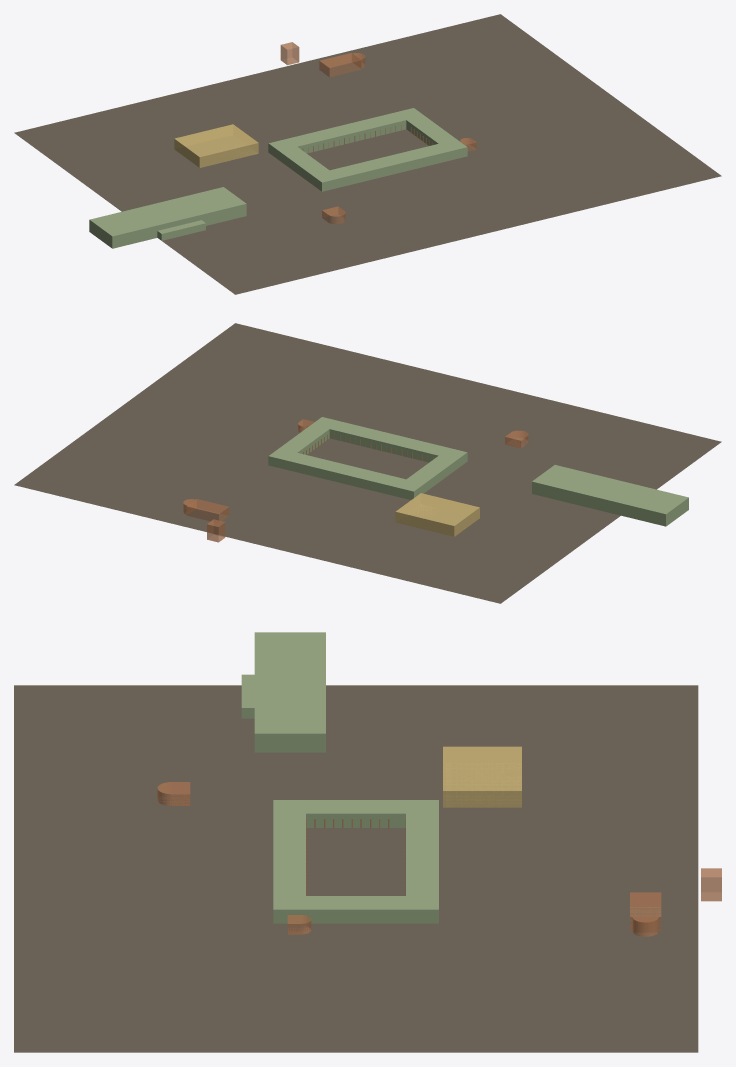
The model's file is medijana.glb.
3 renders of one model, top to bottom at view 1: azimuth 30°, elevation 25°; view 2: azimuth 150°, elevation 25°; view 3: azimuth 270°, elevation 25°, orthographic. The views are drawn at different scales.
Visible parts, largest first — view 1: G-TEREN, G-HORREUM, G-VILA_0, G-VILA_1, G-TERME, G-VILA_2, G-VILA_3, G-CRKVA-S, G-HORREUM-TREM; view 2: G-TEREN, G-HORREUM, G-VILA_1, G-VILA_0, G-TERME, G-VILA_2, G-VILA_3, G-CRKVA-S; view 3: G-TEREN, G-HORREUM, G-TERME, G-VILA_1, G-VILA_0, G-VILA_2, G-VILA_3, G-CRKVA-S, G-STIBADIJUM, G-KASTELUM.
Boxes of the visible parts, x1=… form: G-TEREN: x1=14, y1=14, x2=721, y2=294; G-HORREUM: x1=89, y1=187, x2=246, y2=248; G-VILA_0: x1=311, y1=139, x2=467, y2=191; G-VILA_1: x1=268, y1=108, x2=423, y2=159; G-TERME: x1=174, y1=124, x2=258, y2=167; G-VILA_2: x1=279, y1=147, x2=328, y2=183; G-VILA_3: x1=406, y1=115, x2=456, y2=145; G-CRKVA-S: x1=319, y1=53, x2=361, y2=76; G-HORREUM-TREM: x1=157, y1=220, x2=205, y2=240; G-TEREN: x1=14, y1=323, x2=721, y2=603; G-HORREUM: x1=532, y1=465, x2=688, y2=526; G-VILA_1: x1=268, y1=448, x2=424, y2=499; G-VILA_0: x1=312, y1=417, x2=467, y2=468; G-TERME: x1=395, y1=493, x2=479, y2=536; G-VILA_2: x1=407, y1=456, x2=456, y2=492; G-VILA_3: x1=279, y1=424, x2=329, y2=454; G-CRKVA-S: x1=186, y1=499, x2=229, y2=521; G-TEREN: x1=14, y1=685, x2=698, y2=1052; G-HORREUM: x1=254, y1=632, x2=325, y2=752; G-TERME: x1=443, y1=746, x2=521, y2=807; G-VILA_1: x1=406, y1=800, x2=438, y2=923; G-VILA_0: x1=273, y1=800, x2=305, y2=923; G-VILA_2: x1=306, y1=800, x2=405, y2=827; G-VILA_3: x1=306, y1=896, x2=405, y2=923; G-CRKVA-S: x1=630, y1=892, x2=661, y2=931; G-STIBADIJUM: x1=157, y1=782, x2=190, y2=805; G-KASTELUM: x1=701, y1=868, x2=721, y2=901.
Size of the model in its own units: 360 by 10.8 by 269.
